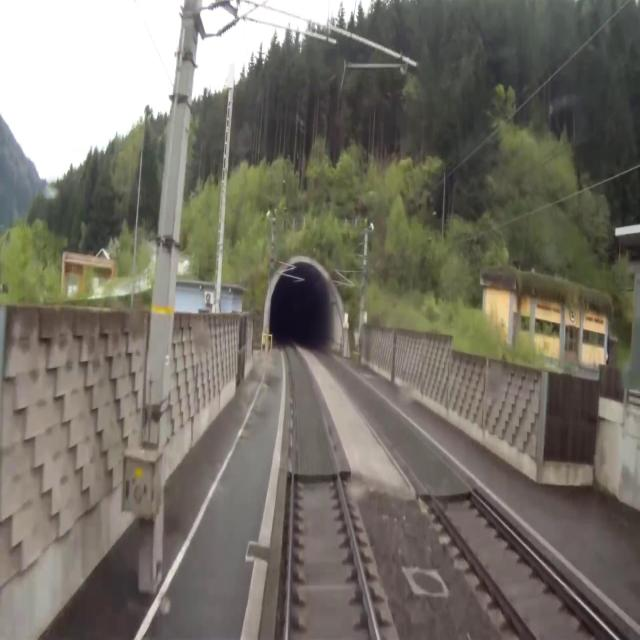rail-track: (326, 358, 611, 639), (283, 341, 375, 639)
